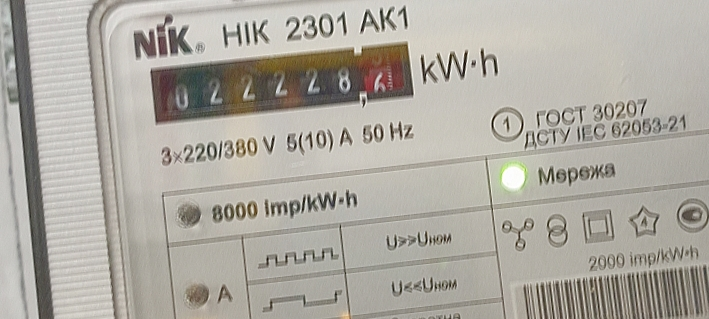0: (173, 81, 192, 111)
2: (206, 75, 227, 106), (305, 66, 325, 96), (272, 68, 292, 97), (240, 72, 259, 102)
5: (369, 47, 387, 68)
6: (372, 70, 390, 92)
8: (337, 65, 355, 94)
screen: (142, 29, 426, 134)
